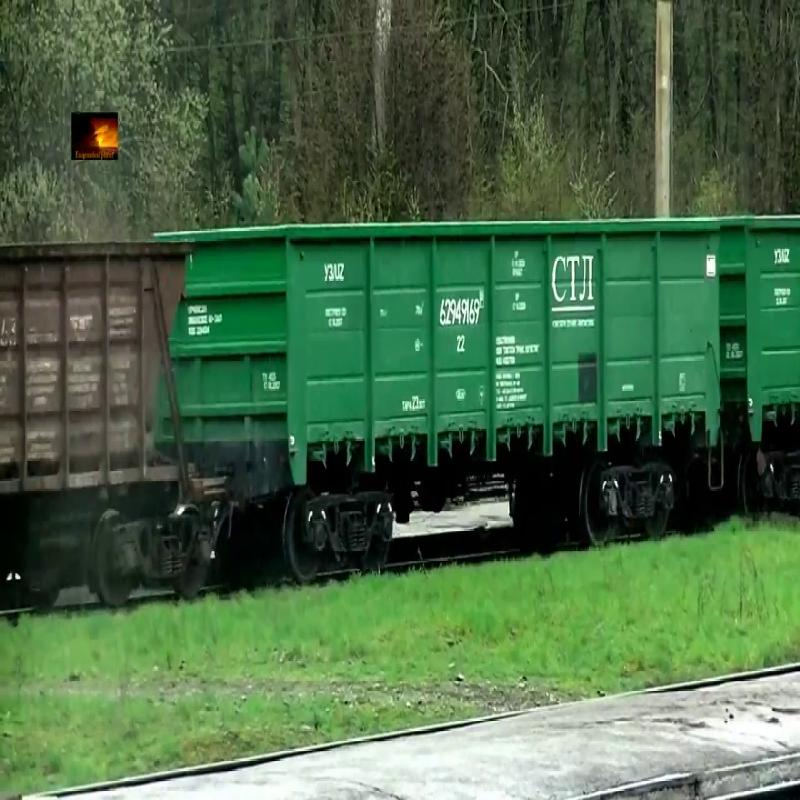train: (166, 209, 721, 505), (1, 232, 199, 504), (726, 211, 800, 450)
